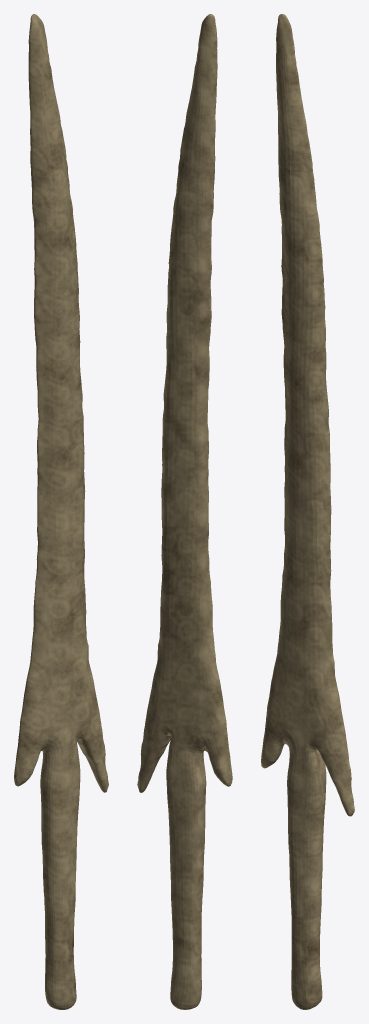
Rendered from Retopo_dart tip.fbx.
The picture shows the model from 3 angles, left to right: view 1: azimuth 30°, elevation 25°; view 2: azimuth 150°, elevation 25°; view 3: azimuth 330°, elevation 25°; orthographic projection.
Parts seen in each view (by area): view 1: Retopo_dart tip_Baked; view 2: Retopo_dart tip_Baked; view 3: Retopo_dart tip_Baked.
Boxes of the visible parts, <box> form: Retopo_dart tip_Baked: <box>14,14,108,1009</box>; Retopo_dart tip_Baked: <box>137,14,232,1009</box>; Retopo_dart tip_Baked: <box>261,14,354,1009</box>.
Size of the model in its own units: 2.18 by 22.16 by 0.5399.
